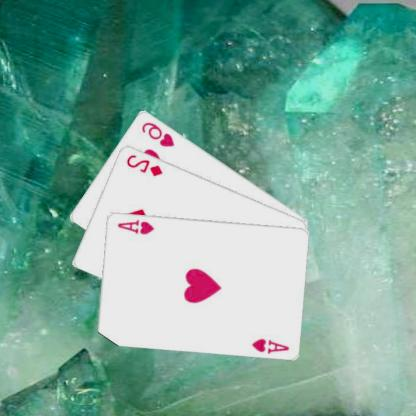2D: (126, 151, 165, 178)
6H: (140, 118, 178, 147)
AH: (250, 335, 292, 355), (116, 217, 157, 235)
